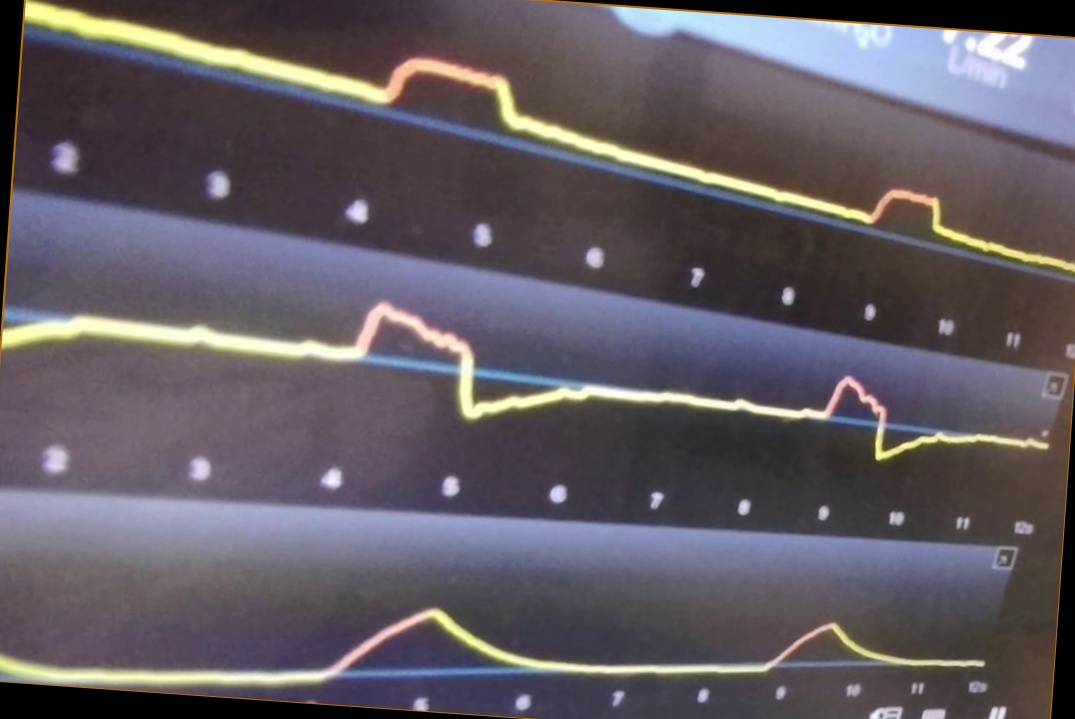Accumulation Flow: (6, 300, 1055, 466)
Volume: (4, 527, 982, 688)
